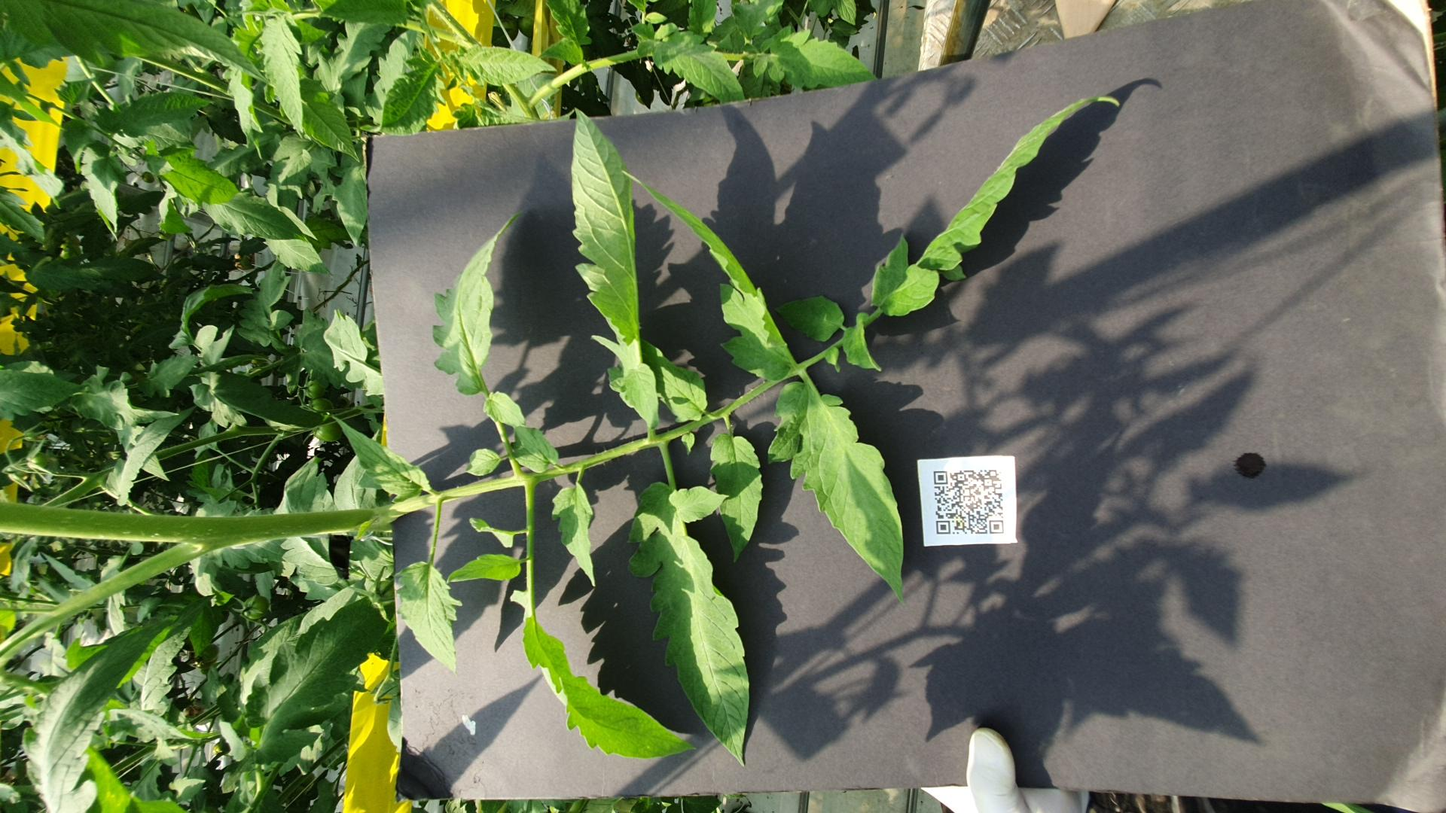Healthy: (885, 489, 1277, 630), (0, 12, 396, 124), (769, 348, 1145, 449), (80, 352, 589, 422), (94, 286, 397, 391), (368, 431, 767, 510), (86, 138, 386, 223), (1294, 2, 1446, 152), (750, 321, 1260, 362), (690, 243, 1065, 297), (694, 331, 851, 398), (1260, 354, 1408, 419), (546, 60, 726, 110), (559, 186, 709, 243), (405, 153, 635, 189), (1284, 423, 1399, 494), (250, 222, 449, 260), (438, 398, 677, 429), (1205, 213, 1368, 252), (1014, 111, 1107, 172), (1201, 51, 1282, 120), (1204, 146, 1417, 171), (699, 0, 803, 51), (741, 182, 897, 216), (1156, 168, 1307, 203), (403, 310, 586, 335), (1290, 256, 1370, 313), (1004, 186, 1193, 209), (1029, 45, 1196, 70), (1085, 91, 1172, 134), (838, 435, 921, 475), (958, 147, 1022, 188), (681, 351, 802, 372), (407, 248, 463, 293), (784, 473, 881, 496)
